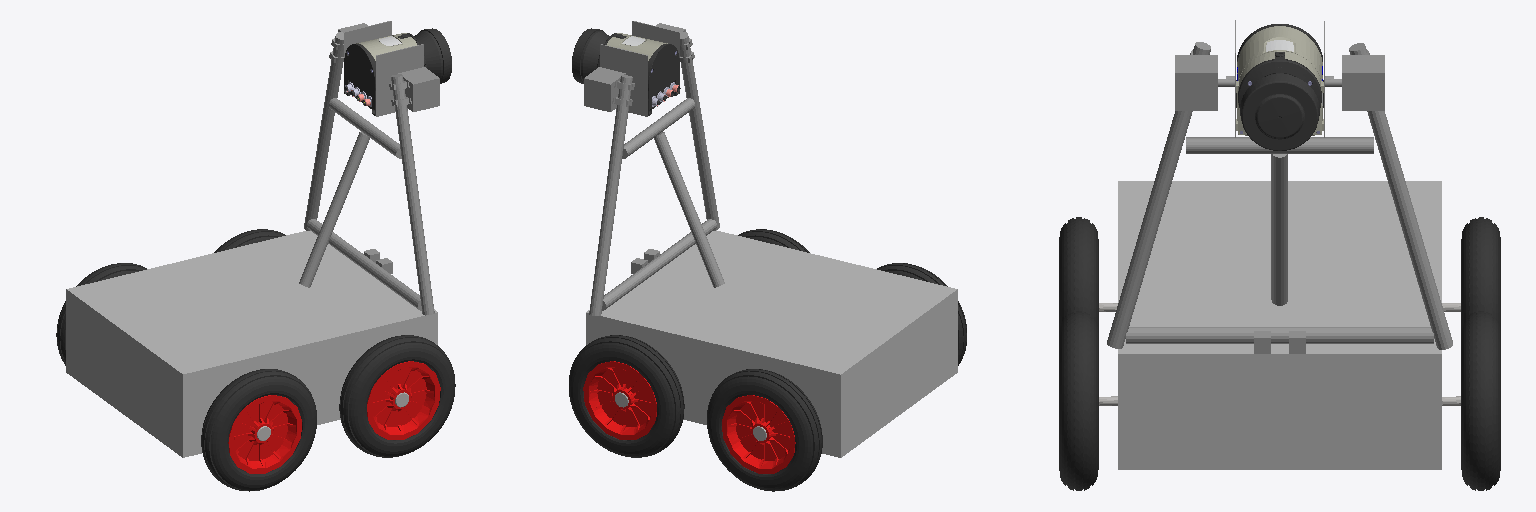
The robot description file, URDF, robot "example":
<?xml version="1.0" ?>
<robot name="example">

    <link name="chassis">
        <inertial>
            <mass value="6"/>
            <origin xyz="0 0 0" rpy="0 0 0"/>
            <inertia ixx="0.08500000" ixy="0" ixz="0" iyy="0.02500000" iyz="0" izz="0.10000000"/>
        </inertial>
        <collision name="chassis_collision">
            <origin xyz="0 0 0" rpy="0 0 0"/>
            <geometry>
                <mesh filename="package://example_description/meshes/rover.dae" scale="0.1 0.1 0.1"/>
            </geometry>
        </collision>
        <visual name="chassis_visual">
            <origin xyz="0 0 0" rpy="0 0 0"/>
            <geometry>
                <mesh filename="package://example_description/meshes/rover.dae" scale="0.1 0.1 0.1"/>
            </geometry>
        </visual>
    </link>

    <link name="dummy"/>
    <joint name="dummy_link" type="fixed">
        <parent link="chassis"/>
        <child link="dummy"/>
        <origin xyz="0 0 0" rpy="0 0 0"/>
    </joint>
    <!--Left Front Wheel-->

    <link name="left_front_wheel">
        <inertial>
            <mass value="0.5"/>
            <origin xyz="0 0 0" rpy="0 0 -1.570796"/>
            <inertia ixx="0.00357413" ixy="0" ixz="0" iyy="0.00508627" iyz="0" izz="0.00838547"/>
        </inertial>

        <collision name="left_front_wheel_collision">
            <origin xyz="0 0 0" rpy="0 0 -1.570796"/>
            <geometry>
                <mesh filename="package://example_description/meshes/wheel.dae" scale="0.1 0.1 0.1"/>
            </geometry>
            <surface>
                <friction>
                    <ode>
                        <mu>0.01</mu>
                        <mu2>0.01</mu2>
                    </ode>
                </friction>
            </surface>
        </collision>

        <visual name="left_front_wheel_visual">
            <origin xyz="0 0 0" rpy="0 0 -1.570796"/>
            <geometry>
                <mesh filename="package://example_description/meshes/wheel.dae" scale="0.1 0.1 0.1"/>
            </geometry>
        </visual>
    </link>

    <joint name="left_front_wheel_joint" type="revolute">
        <parent link="chassis"/>
        <child link="left_front_wheel"/>
        <origin xyz="0.13 0.19 0.035" rpy="0 0 0"/>
        <axis xyz="0 1 0"/>
        <limit lower="-9999999999999999" upper="9999999999999999" effort="2000.0" velocity="10.0"/>
    </joint>

    <!-- <transmission name="t_left_front_wheel">
        <type>transmission_interface/SimpleTransmission</type>
        <joint name="left_front_wheel_joint">
            <hardwareInterface>hardware_interface/VelocityJointInterface</hardwareInterface>
        </joint>
        <actuator name="m_left_front_wheel">
            <mechanicalReduction>1</mechanicalReduction>
            <hardwareInterface>hardware_interface/VelocityJointInterface</hardwareInterface>
        </actuator>
    </transmission> -->

    <!--Right Front Wheel-->
    <link name="right_front_wheel">
        <inertial>
            <mass value="0.5"/>
            <origin xyz="0 0 0" rpy="0 0 1.570796"/>
            <inertia ixx="0.00357413" ixy="0" ixz="0" iyy="0.00508627" iyz="0" izz="0.00838547"/>
        </inertial>

        <collision name="right_front_wheel_collision">
            <origin xyz="0 0 0" rpy="0 0 1.570796"/>
            <geometry>
                <mesh filename="package://example_description/meshes/wheel.dae" scale="0.1 0.1 0.1"/>
            </geometry>
            <surface>
                <friction>
                    <ode>
                        <mu>0.01</mu>
                        <mu2>0.01</mu2>
                    </ode>
                </friction>
            </surface>
        </collision>

        <visual name="right_front_wheel_visual">
            <origin xyz="0 0 0" rpy="0 0 1.570796"/>
            <geometry>
                <mesh filename="package://example_description/meshes/wheel.dae" scale="0.1 0.1 0.1"/>
            </geometry>
        </visual>
    </link>

    <joint name="right_front_wheel_joint" type="revolute">
        <parent link="chassis"/>
        <child link="right_front_wheel"/>
        <origin xyz="0.13 -0.19 0.035" rpy="0 0 0"/>
        <axis xyz="0 1 0"/>
        <limit lower="-9999999999999999" upper="9999999999999999" effort="2000.0" velocity="10.0"/>
    </joint>

    <!-- <transmission name="t_right_front_wheel">
        <type>transmission_interface/SimpleTransmission</type>
        <joint name="right_front_wheel_joint">
            <hardwareInterface>hardware_interface/VelocityJointInterface</hardwareInterface>
        </joint>
        <actuator name="m_right_front_wheel">
            <mechanicalReduction>1</mechanicalReduction>
            <hardwareInterface>hardware_interface/VelocityJointInterface</hardwareInterface>
        </actuator>
    </transmission> -->

    <!--Left Back Wheel-->
    <link name="left_back_wheel">
        <inertial>
            <mass value="0.5"/>
            <origin xyz="0 0 0" rpy="0 0 -1.570796"/>
            <inertia ixx="0.00357413" ixy="0" ixz="0" iyy="0.00508627" iyz="0" izz="0.00838547"/>
        </inertial>

        <collision name="left_back_wheel_collision">
            <origin xyz="0 0 0" rpy="0 0 -1.570796"/>
            <geometry>
                <mesh filename="package://example_description/meshes/wheel.dae" scale="0.1 0.1 0.1"/>
            </geometry>
            <surface>
                <friction>
                    <ode>
                        <mu>0.01</mu>
                        <mu2>0.01</mu2>
                    </ode>
                </friction>
            </surface>
        </collision>

        <visual name="left_back_wheel_visual">
            <origin xyz="0 0 0" rpy="0 0 -1.570796"/>
            <geometry>
                <mesh filename="package://example_description/meshes/wheel.dae" scale="0.1 0.1 0.1"/>
            </geometry>
        </visual>
    </link>

    <joint name="left_back_wheel_joint" type="revolute">
        <parent link="chassis"/>
        <child link="left_back_wheel"/>
        <origin xyz="-0.13 0.19 0.035" rpy="0 0 0"/>
        <axis xyz="0 1 0"/>
        <limit lower="-9999999999999999" upper="9999999999999999" effort="2000.0" velocity="10.0"/>
    </joint>

    <!-- <transmission name="t_left_back_wheel">
        <type>transmission_interface/SimpleTransmission</type>
        <joint name="left_back_wheel_joint">
            <hardwareInterface>hardware_interface/VelocityJointInterface</hardwareInterface>
        </joint>
        <actuator name="m_left_back_wheel">
            <mechanicalReduction>1</mechanicalReduction>
            <hardwareInterface>hardware_interface/VelocityJointInterface</hardwareInterface>
        </actuator>
    </transmission> -->

    <!--Right Back Wheel-->
    <link name="right_back_wheel">
        <inertial>
            <mass value="0.5"/>
            <origin xyz="0 0 0" rpy="0 0 1.570796"/>
            <inertia ixx="0.00357413" ixy="0" ixz="0" iyy="0.00508627" iyz="0" izz="0.00838547"/>
        </inertial>

        <collision name="right_back_wheel_collision">
            <origin xyz="0 0 0" rpy="0 0 1.570796"/>
            <geometry>
                <mesh filename="package://example_description/meshes/wheel.dae" scale="0.1 0.1 0.1"/>
            </geometry>
            <surface>
                <friction>
                    <ode>
                        <mu>0.01</mu>
                        <mu2>0.01</mu2>
                    </ode>
                </friction>
            </surface>
        </collision>

        <visual name="right_back_wheel_visual">
            <origin xyz="0 0 0" rpy="0 0 1.570796"/>
            <geometry>
                <mesh filename="package://example_description/meshes/wheel.dae" scale="0.1 0.1 0.1"/>
            </geometry>
        </visual>
    </link>

    <joint name="right_back_wheel_joint" type="revolute">
        <parent link="chassis"/>
        <child link="right_back_wheel"/>
        <origin xyz="-0.13 -0.19 0.035" rpy="0 0 0"/>
        <axis xyz="0 1 0"/>
        <limit lower="-9999999999999999" upper="9999999999999999" effort="2000.0" velocity="10.0"/>
    </joint>

    <!-- <transmission name="t_right_back_wheel">
        <type>transmission_interface/SimpleTransmission</type>
        <joint name="right_back_wheel_joint">
            <hardwareInterface>hardware_interface/VelocityJointInterface</hardwareInterface>
        </joint>
        <actuator name="m_right_back_wheel">
            <mechanicalReduction>1</mechanicalReduction>
            <hardwareInterface>hardware_interface/VelocityJointInterface</hardwareInterface>
        </actuator>
    </transmission> -->

    <!--Frame-->

    <link name="Frame">
        <inertial>
            <mass value="0.5"/>
            <origin xyz="0 0 0" rpy="0 0 1.570796"/>
            <inertia ixx="0.00357413" ixy="0" ixz="0" iyy="0.00508627" iyz="0" izz="0.00838547"/>
        </inertial>

        <collision name="Frame_collision">
            <origin xyz="0 0 0" rpy="0 0 1.570796"/>
            <geometry>
                <mesh filename="package://example_description/meshes/frame.dae" scale="0.1 0.1 0.1"/>
            </geometry>
            <surface>
                <friction>
                    <ode>
                        <mu>0.01</mu>
                        <mu2>0.01</mu2>
                    </ode>
                </friction>
            </surface>
        </collision>

        <visual name="Frame_visual">
            <origin xyz="0 0 0" rpy="0 0 1.570796"/>
            <geometry>
                <mesh filename="package://example_description/meshes/frame.dae" scale="0.1 0.1 0.1"/>
            </geometry>
        </visual>
    </link>

    <joint name="Frame_joint" type="fixed">
        <parent link="chassis"/>
        <child link="Frame"/>
        <origin xyz="0.24 0 0.15" rpy="0 -1.570796 0"/>
        <axis xyz="0 1 0"/>
    </joint>

    <!--Lidar-->

    <link name="lidar">
        <inertial>
            <mass value="0.05"/>
            <origin xyz="0.09743 0 0" rpy="0 0 1.570796"/>
            <inertia ixx="0.00357413" ixy="0" ixz="0" iyy="0.00508627" iyz="0" izz="0.00838547"/>
        </inertial>

        <collision name="lidar_collision">
            <origin xyz="0.09743 0 0" rpy="0 0 1.570796"/>
            <geometry>
                <mesh filename="package://example_description/meshes/lidar.dae" scale="0.1 0.1 0.1"/>
            </geometry>
            <surface>
                <friction>
                    <ode>
                        <mu>0.01</mu>
                        <mu2>0.01</mu2>
                    </ode>
                </friction>
            </surface>
        </collision>

        <visual name="lidar_visual">
            <origin xyz="0.09743 0 0" rpy="0 0 1.570796"/>
            <geometry>
                <mesh filename="package://example_description/meshes/lidar.dae" scale="0.1 0.1 0.1"/>
            </geometry>
        </visual>
    </link>

    <joint name="lidar_joint" type="revolute">
        <parent link="chassis"/>
        <child link="lidar"/>
        <origin xyz="0.249 0 0.505141" rpy="0 0 0"/>
        <axis xyz="0 1 0"/>
        <limit lower="-0.001" upper="0.001" effort="2000.0" velocity="10.0"/>
    </joint>

    <gazebo reference="lidar">
        <sensor type="gpu_ray" name="lidar_sensor">
            <pose>0.098 0 0 0 0 0</pose>
            <visualize>true</visualize>
            <update_rate>60</update_rate>
            <ray>
                <scan>
                    <horizontal>
                        <samples>128</samples>
                        <resolution>1</resolution>
                        <min_angle>-1.570796</min_angle>
                        <max_angle>1.570796</max_angle>
                    </horizontal>
                </scan>
                <range>
                    <min>0.0001</min>
                    <max>120.0</max>
                    <resolution>0.01</resolution>
                </range>
                <noise>
                    <type>gaussian</type>
                    <!-- Noise parameters based on published spec for Hokuyo laser
                achieving "+-30mm" accuracy at range < 10m.  A mean of 0.0m and
                stddev of 0.01m will put 99.7% of samples within 0.03m of the true
                reading. -->
                    <mean>0.0</mean>
                    <stddev>0.01</stddev>
                </noise>
            </ray>
            <plugin name="gazebo_ros_head_hokuyo_controller" filename="libgazebo_ros_gpu_laser.so">
                <topicName>/scan</topicName>
                <frameName>world</frameName>
            </plugin>
        </sensor>
    </gazebo>

    <!-- <transmission name="t_lidar_joint">
        <type>transmission_interface/SimpleTransmission</type>
        <joint name="lidar_joint">
            <hardwareInterface>hardware_interface/VelocityJointInterface</hardwareInterface>
        </joint>
        <actuator name="m_lidar_joint">
            <mechanicalReduction>1</mechanicalReduction>
            <hardwareInterface>hardware_interface/VelocityJointInterface</hardwareInterface>
        </actuator>
    </transmission> -->

    <!-- <gazebo>
        <plugin name="skid_steer_drive_controller" filename="libgazebo_ros_skid_steer_drive.so">
            <updateRate>100.0</updateRate>
            <robotNamespace>/skid</robotNamespace>
            <leftFrontJoint>left_front_wheel_joint</leftFrontJoint>
            <rightFrontJoint>right_front_wheel_joint</rightFrontJoint>
            <leftRearJoint>left_back_wheel_joint</leftRearJoint>
            <rightRearJoint>right_back_wheel_joint</rightRearJoint>
            <wheelSeparation>3.2</wheelSeparation>
            <wheelDiameter>2.1</wheelDiameter>
            <robotBaseFrame>chassis</robotBaseFrame>
            <torque>20</torque>
            <topicName>cmd_vel</topicName>
            <broadcastTF>true</broadcastTF>
        </plugin>
    </gazebo> -->

    <!-- Camera 1-->

    <gazebo reference="camera_1_link">
        <sensor type="multicamera" name="stereo_camera">
            <update_rate>120.0</update_rate>
            <camera name="left">
                <pose>0 0.07 0 0 0 0</pose>
                <horizontal_fov>1.3962634</horizontal_fov>
                <image>
                <width>800</width>
                <height>800</height>
                <format>R8G8B8</format>
                </image>
                <clip>
                <near>0.02</near>
                <far>300</far>
                </clip>
                <noise>
                <type>gaussian</type>
                <mean>0.0</mean>
                <stddev>0.007</stddev>
                </noise>
            </camera>
            <camera name="right">
                <pose>0 -0.07 0 0 0 0</pose>
                <horizontal_fov>1.3962634</horizontal_fov>
                <image>
                <width>800</width>
                <height>800</height>
                <format>R8G8B8</format>
                </image>
                <clip>
                <near>0.02</near>
                <far>300</far>
                </clip>
                <noise>
                <type>gaussian</type>
                <mean>0.0</mean>
                <stddev>0.007</stddev>
                </noise>
            </camera>
            <plugin name="stereo_camera_controller" filename="libgazebo_ros_multicamera.so">
                <alwaysOn>true</alwaysOn>
                <updateRate>0.0</updateRate>
                <cameraName>stereo/</cameraName>
                <imageTopicName>image_raw</imageTopicName>
                <cameraInfoTopicName>camera_info</cameraInfoTopicName>
                <frameName>left_camera_optical_frame</frameName>
                <!--<rightFrameName>right_camera_optical_frame</rightFrameName>-->
                <hackBaseline>0.07</hackBaseline>
                <distortionK1>0.0</distortionK1>
                <distortionK2>0.0</distortionK2>
                <distortionK3>0.0</distortionK3>
                <distortionT1>0.0</distortionT1>
                <distortionT2>0.0</distortionT2>
            </plugin>
        </sensor>
    </gazebo>


    <link name="camera_1_link">
    </link>

    <joint name="camera_1_joint" type="fixed">
        <axis xyz="0 1 0" />
        <origin xyz="0.24 0.02 0.15" rpy="0 0 0"/>
        <parent link="chassis"/>
        <child link="camera_1_link"/>
    </joint>

    <!-- <gazebo reference="camera_1_link">
        <sensor type="camera" name="right">
            <update_rate>120.0</update_rate>
            <camera name="head">
                <horizontal_fov>1.3962634</horizontal_fov>
                <image>
                    <width>800</width>
                    <height>800</height>
                    <format>rgb8</format>
                </image>
                <clip>
                    <near>0.02</near>
                    <far>300</far>
                </clip>
                <noise>
                    <type>gaussian</type> -->
                    <!-- Noise is sampled independently per pixel on each frame.
               That pixel's noise value is added to each of its color
               channels, which at that point lie in the range [0,1]. -->
                    <!-- <mean>0.0</mean>
                    <stddev>0.007</stddev>
                </noise>
            </camera>
            <plugin name="camera_controller" filename="libgazebo_ros_camera.so">
                <alwaysOn>true</alwaysOn>
                <updateRate>30.0</updateRate>
                <cameraName>stereo/right</cameraName>
                <imageTopicName>image_raw</imageTopicName>
                <cameraInfoTopicName>camera_info</cameraInfoTopicName>
                <frameName>camera_link</frameName>
                <hackBaseline>0.07</hackBaseline>
                <distortionK1>0.0</distortionK1>
                <distortionK2>0.0</distortionK2>
                <distortionK3>0.0</distortionK3>
                <distortionT1>0.0</distortionT1>
                <distortionT2>0.0</distortionT2>
            </plugin>
        </sensor>
    </gazebo> -->

    <!-- Camera 2-->

    <link name="camera_2_link">
    </link>

    <joint name="camera_2_joint" type="fixed">
        <axis xyz="0 1 0" />
        <origin xyz="0.24 -0.02 0.15" rpy="0 0 0"/>
        <parent link="chassis"/>
        <child link="camera_2_link"/>
    </joint>

    <!-- <gazebo reference="camera_2_link">
        <sensor type="camera" name="left">
            <update_rate>120.0</update_rate>
            <camera name="head">
                <horizontal_fov>1.3962634</horizontal_fov>
                <image>
                    <width>800</width>
                    <height>800</height>
                    <format>R8G8B8</format>
                </image>
                <clip>
                    <near>0.02</near>
                    <far>300</far>
                </clip>
                <noise>
                    <type>gaussian</type> -->
                    <!-- Noise is sampled independently per pixel on each frame.
               That pixel's noise value is added to each of its color
               channels, which at that point lie in the range [0,1]. -->
                    <!-- <mean>0.0</mean>
                    <stddev>0.007</stddev>
                </noise>
            </camera>
            <plugin name="camera_controller" filename="libgazebo_ros_camera.so">
                <alwaysOn>true</alwaysOn>
                <updateRate>5.0</updateRate>
                <cameraName>stereo/left</cameraName>
                <imageTopicName>image_raw</imageTopicName>
                <cameraInfoTopicName>camera_info</cameraInfoTopicName>
                <frameName>camera_link</frameName>
                <hackBaseline>0.07</hackBaseline>
                <distortionK1>0.0</distortionK1>
                <distortionK2>0.0</distortionK2>
                <distortionK3>0.0</distortionK3>
                <distortionT1>0.0</distortionT1>
                <distortionT2>0.0</distortionT2>
            </plugin>
        </sensor>
    </gazebo>

    <gazebo>
        <plugin name="Control" filename="libcontrol.so">
        </plugin>
    </gazebo> -->

    <gazebo>
        <plugin name="Telemetries" filename="libtelemetries.so">
        </plugin>
    </gazebo>


    <!-- <gazebo>
        <plugin name="gazebo_ros_control" filename="libgazebo_ros_control.so">
            <robotNamespace>/example</robotNamespace>
        </plugin>
    </gazebo>

    <plugin name="rover_telemetries" filename="librover_telemetries.so">
        <robotNamespace>/slet</robotNamespace>
    </plugin> -->





</robot>

--- Facts derived from the render (not from the file) ---
Views: 3 orthographic renders of the robot side by side, from view 1: azimuth 30°, elevation 25°; view 2: azimuth 150°, elevation 25°; view 3: azimuth 270°, elevation 25°.
Model example with 10 links and 9 joints (5 revolute, 4 fixed), rooted at chassis, posed all joints at 0.
Links seen in each view (by area): view 1: chassis, Frame, right_front_wheel, right_back_wheel, lidar, left_back_wheel, left_front_wheel; view 2: chassis, Frame, left_front_wheel, left_back_wheel, lidar, right_back_wheel, right_front_wheel; view 3: chassis, Frame, lidar, right_front_wheel, left_front_wheel, left_back_wheel, right_back_wheel.
Boxes of the visible links, bbox=[...] form: chassis: bbox=[66, 231, 437, 457]; Frame: bbox=[299, 23, 439, 315]; right_front_wheel: bbox=[339, 335, 455, 457]; right_back_wheel: bbox=[201, 369, 316, 491]; lidar: bbox=[344, 21, 451, 116]; left_back_wheel: bbox=[56, 263, 146, 365]; left_front_wheel: bbox=[214, 229, 285, 252]; chassis: bbox=[586, 230, 957, 457]; Frame: bbox=[584, 23, 724, 315]; left_front_wheel: bbox=[569, 335, 684, 457]; left_back_wheel: bbox=[707, 369, 822, 491]; lidar: bbox=[572, 21, 680, 116]; right_back_wheel: bbox=[877, 263, 966, 365]; right_front_wheel: bbox=[738, 229, 809, 252]; chassis: bbox=[1118, 181, 1441, 469]; Frame: bbox=[1107, 42, 1452, 353]; lidar: bbox=[1226, 20, 1333, 150]; right_front_wheel: bbox=[1059, 311, 1117, 490]; left_front_wheel: bbox=[1442, 311, 1500, 490]; left_back_wheel: bbox=[1442, 217, 1500, 332]; right_back_wheel: bbox=[1059, 217, 1117, 332].
Bounding box of the posed robot: 0.5939 × 0.5174 × 0.6284 m (x, y, z).
Meshes: 4 distinct files referenced, 7 mesh visuals loaded (4 Collada DAE).
